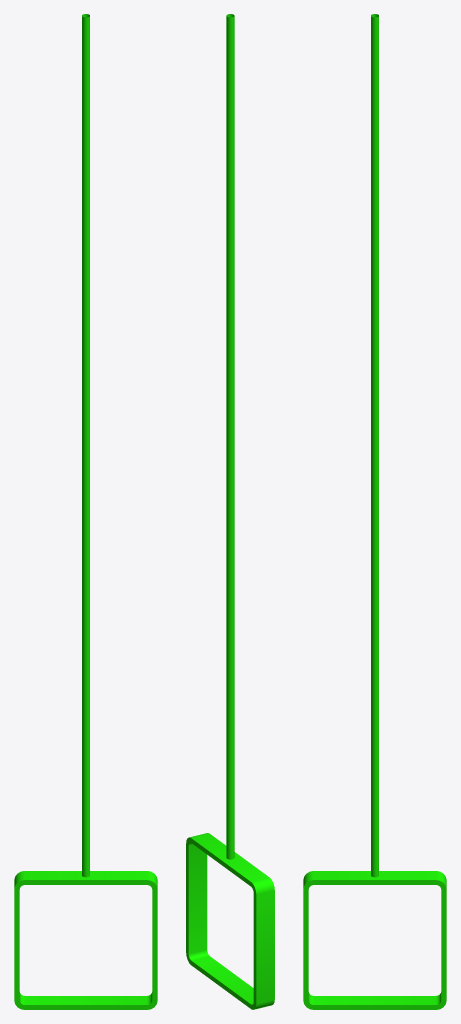
The model's file is cutter3_cube.fbx.
3 renders of one model, left to right at view 1: azimuth 90°, elevation 25°; view 2: azimuth 210°, elevation 25°; view 3: azimuth 270°, elevation 25°, orthographic. The views are drawn at different scales.
Parts seen in each view (by area): view 1: Cutter3_Cube; view 2: Cutter3_Cube; view 3: Cutter3_Cube.
Part boxes in pixels (bbox=[...]): Cutter3_Cube: bbox=[14, 14, 157, 1009]; Cutter3_Cube: bbox=[186, 14, 274, 1009]; Cutter3_Cube: bbox=[303, 14, 446, 1009].
Size of the model in its own units: 16.5 by 824 by 108.
